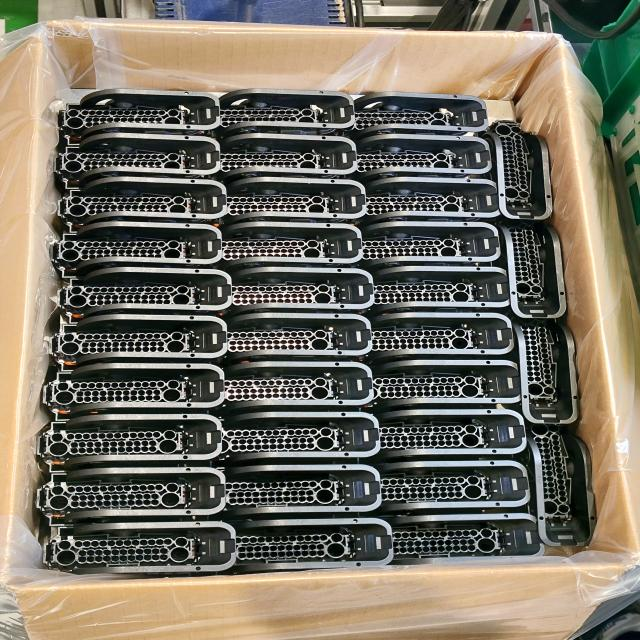P38: (490, 424, 597, 547), (36, 466, 226, 526), (36, 414, 223, 473), (201, 464, 382, 524), (43, 521, 236, 576), (43, 363, 224, 421), (49, 221, 222, 281), (49, 314, 227, 372), (212, 518, 394, 574), (357, 460, 531, 518), (55, 267, 232, 324), (209, 412, 381, 470), (341, 312, 515, 369), (342, 360, 522, 415), (359, 409, 528, 466), (208, 361, 374, 419), (53, 133, 221, 190), (57, 177, 227, 233), (206, 312, 373, 369), (202, 267, 375, 322), (58, 88, 221, 145), (342, 266, 510, 320), (501, 310, 580, 424), (378, 513, 546, 566), (196, 177, 367, 229), (335, 221, 501, 274), (334, 177, 502, 229), (324, 91, 488, 143), (470, 120, 553, 221), (329, 134, 492, 185), (201, 134, 358, 186), (206, 222, 363, 274), (490, 218, 567, 319), (212, 88, 355, 141)
